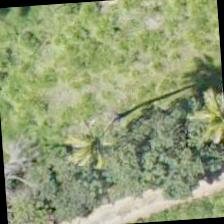Kelapa_Sawit: (44, 96, 140, 192)
